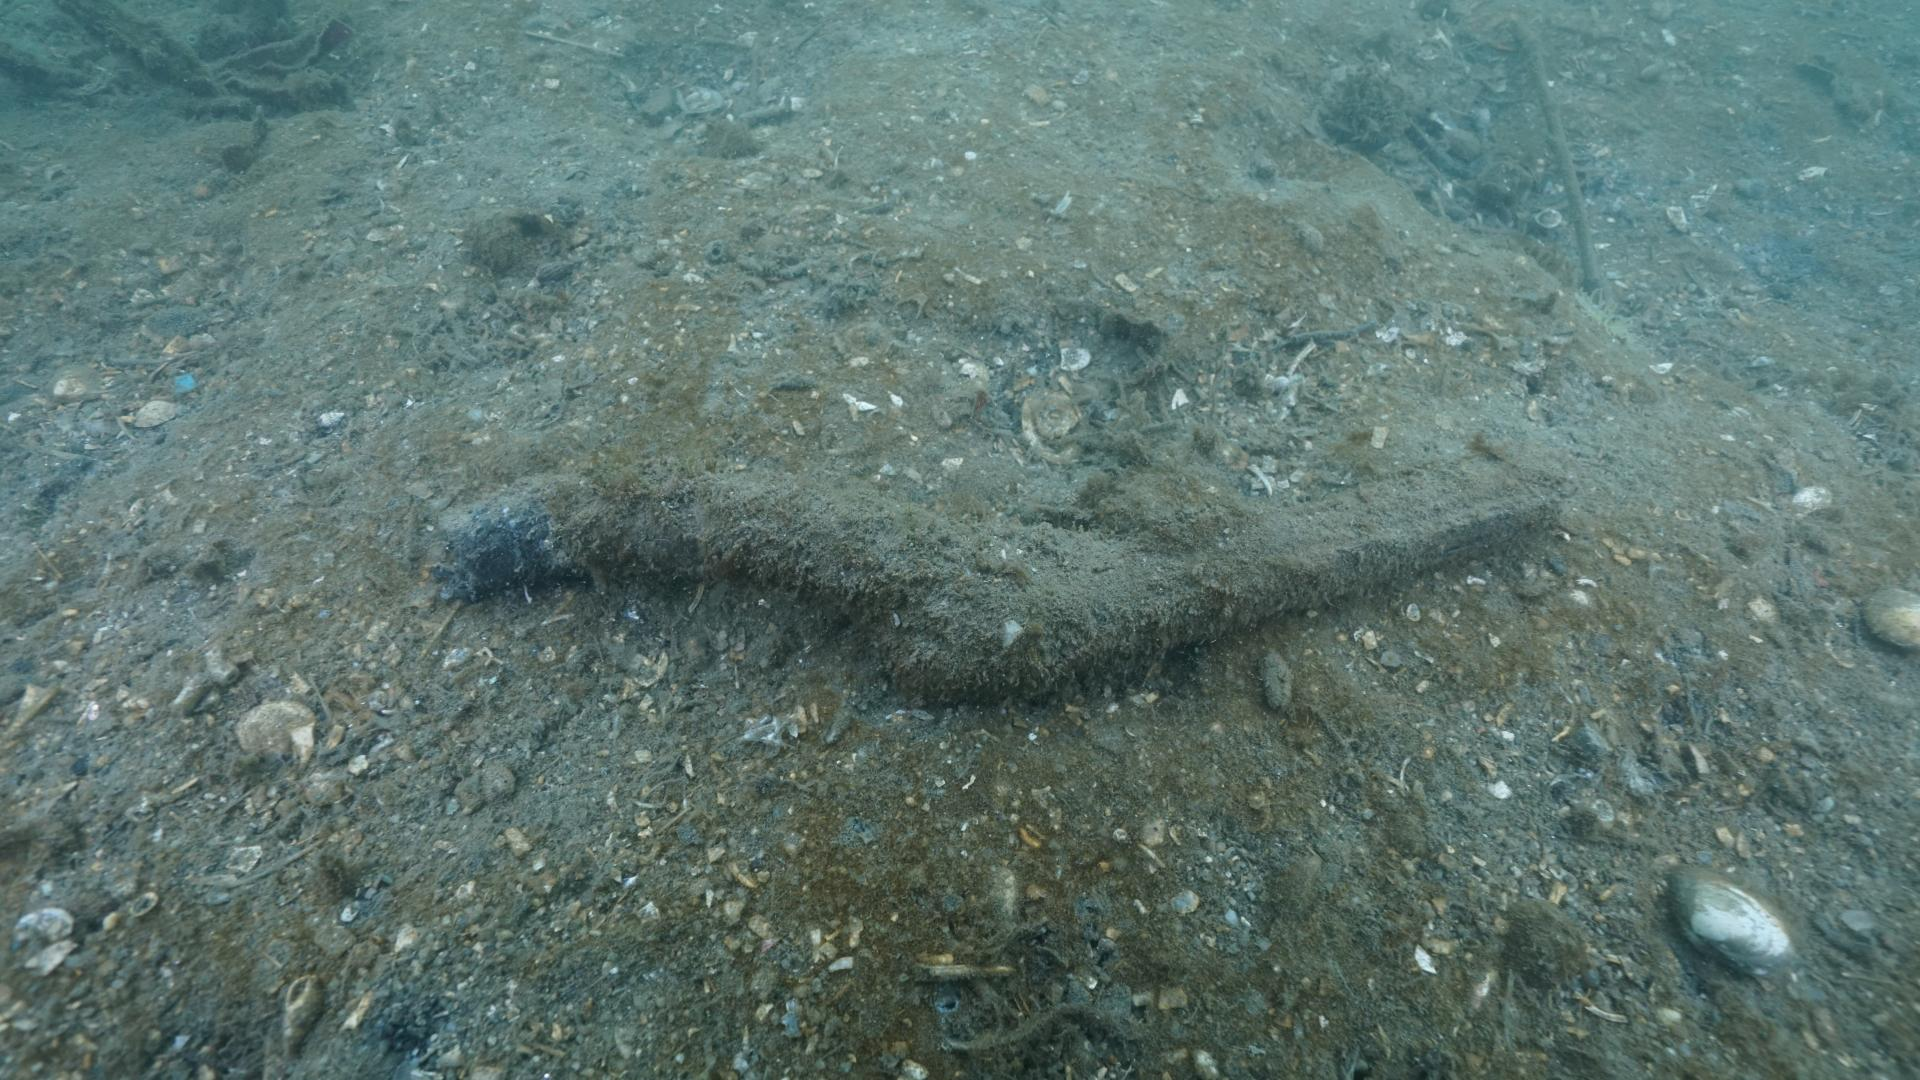wood: (425, 450, 1557, 716)
